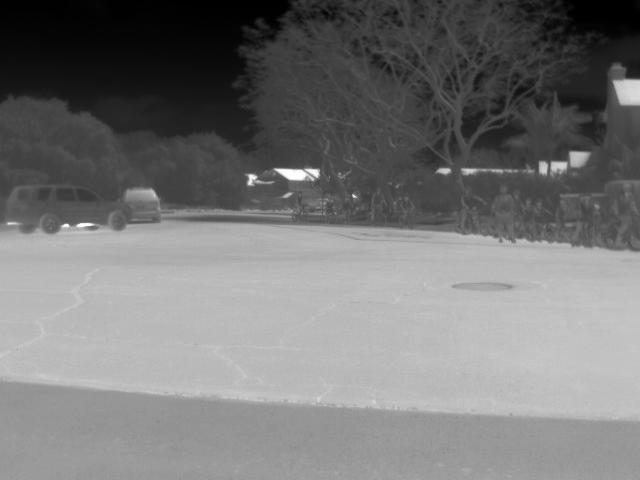car: (4, 182, 131, 236), (558, 178, 640, 224), (120, 184, 163, 221)
person: (611, 181, 639, 246), (489, 184, 519, 243), (456, 190, 488, 236), (570, 192, 596, 247), (368, 188, 390, 222), (534, 200, 556, 221), (398, 195, 417, 214), (520, 196, 536, 216)
